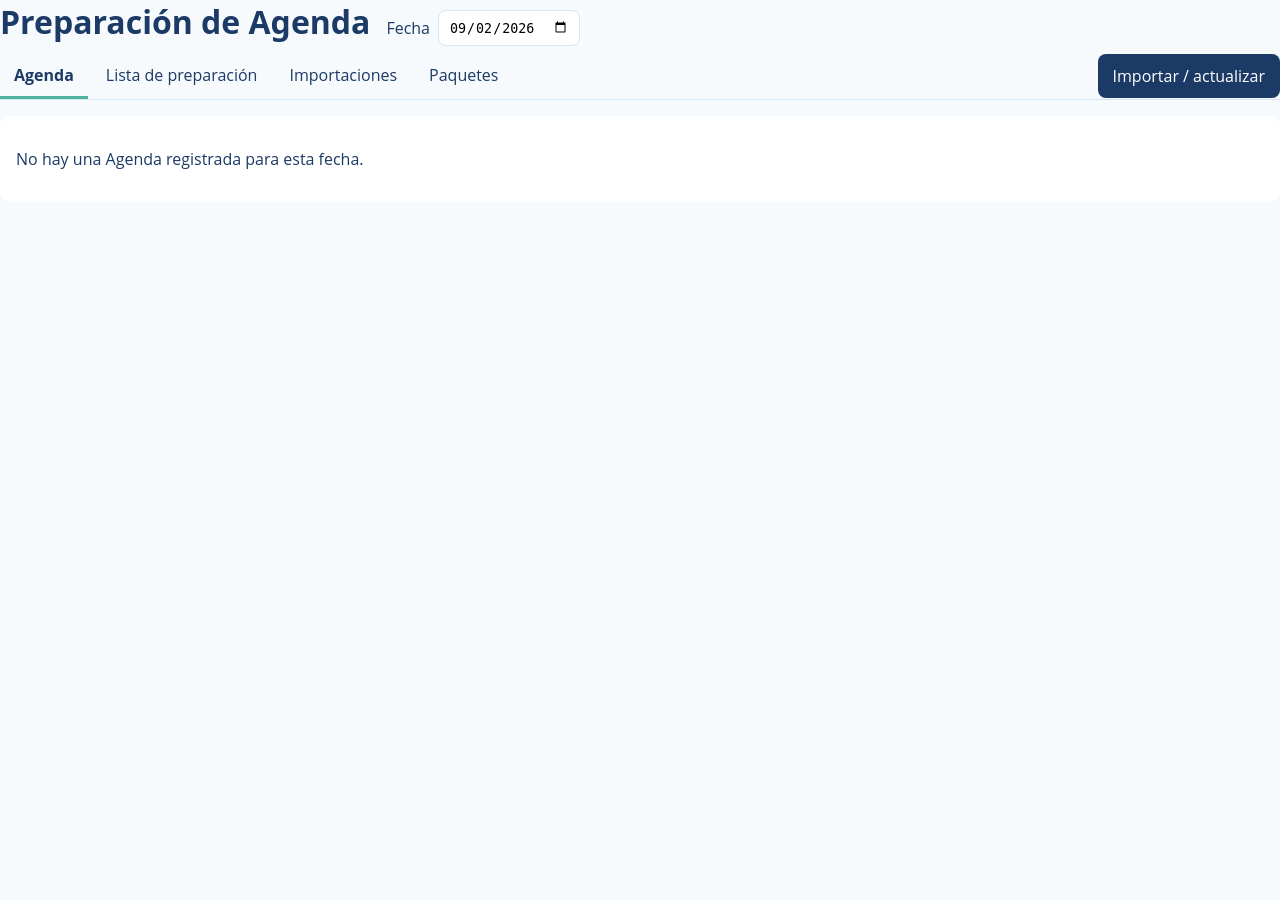
Test: AgendaPreparationWorkspace — estructura semántica (T-UX-01) › hacer clic en "Importar / actualizar" abre el wizard (comportamiento no cambiado)
Click the button with aria-label "Importar o actualizar Agenda". click: click(1189, 76)
box: [1098,54,1279,98]
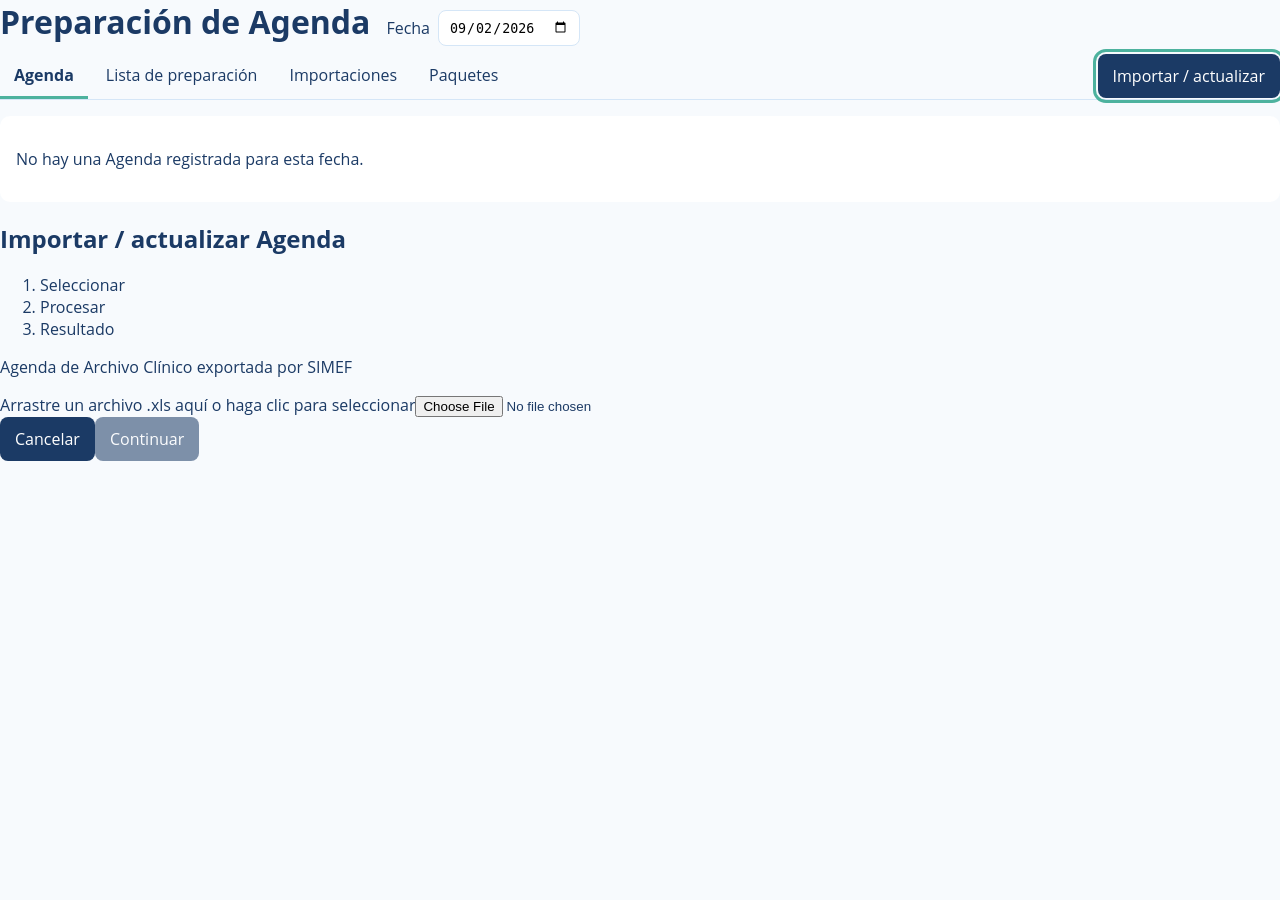
expect the dialog is shown: met, box [0,222,668,462]
